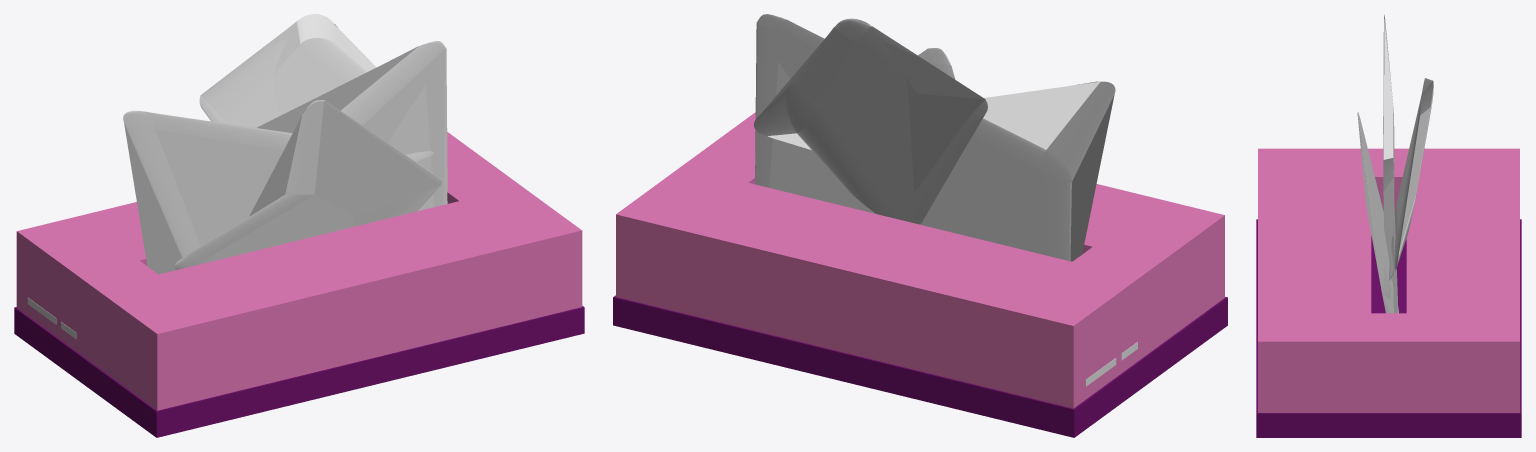
Rendered from tissueBox.fbx.
3 views of the same model, side by side, from view 1: azimuth 30°, elevation 25°; view 2: azimuth 150°, elevation 25°; view 3: azimuth 270°, elevation 25° (orthographic). The views are drawn at different scales.
Parts seen in each view (by area): view 1: Cube, Cube.001, Cube.002, Cube.004, Cube.003; view 2: Cube, Cube.001, Cube.003, Cube.004; view 3: Cube, Cube.004, Cube.003, Cube.001, Cube.002.
Boxes of the visible parts, left/top/right/bottom form: Cube: left=16, top=132, right=582, bottom=410; Cube.001: left=123, top=41, right=447, bottom=274; Cube.002: left=174, top=100, right=442, bottom=269; Cube.004: left=14, top=306, right=584, bottom=437; Cube.003: left=199, top=14, right=433, bottom=161; Cube: left=616, top=112, right=1224, bottom=408; Cube.001: left=755, top=14, right=1115, bottom=261; Cube.003: left=754, top=18, right=987, bottom=224; Cube.004: left=613, top=295, right=1227, bottom=437; Cube: left=1258, top=148, right=1519, bottom=412; Cube.004: left=1256, top=219, right=1521, bottom=437; Cube.003: left=1389, top=78, right=1433, bottom=280; Cube.001: left=1383, top=14, right=1397, bottom=313; Cube.002: left=1357, top=112, right=1398, bottom=313.
Bounding box in the file's own units: 202 × 132 × 116.
